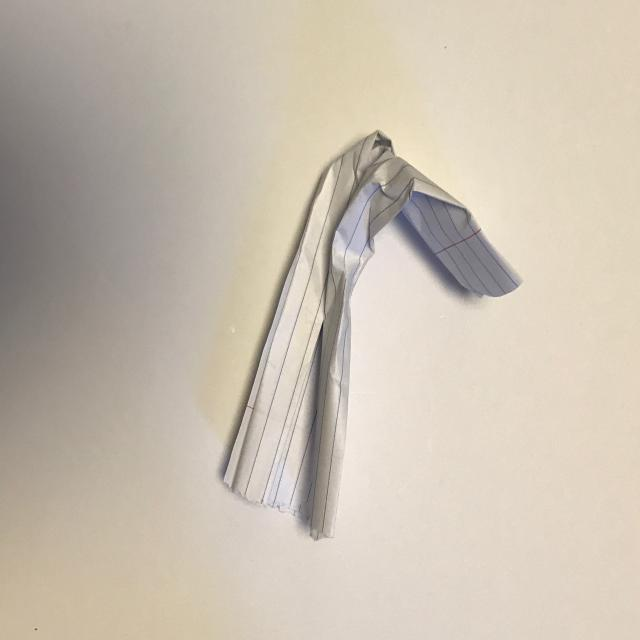Paper: (217, 127, 532, 551)
